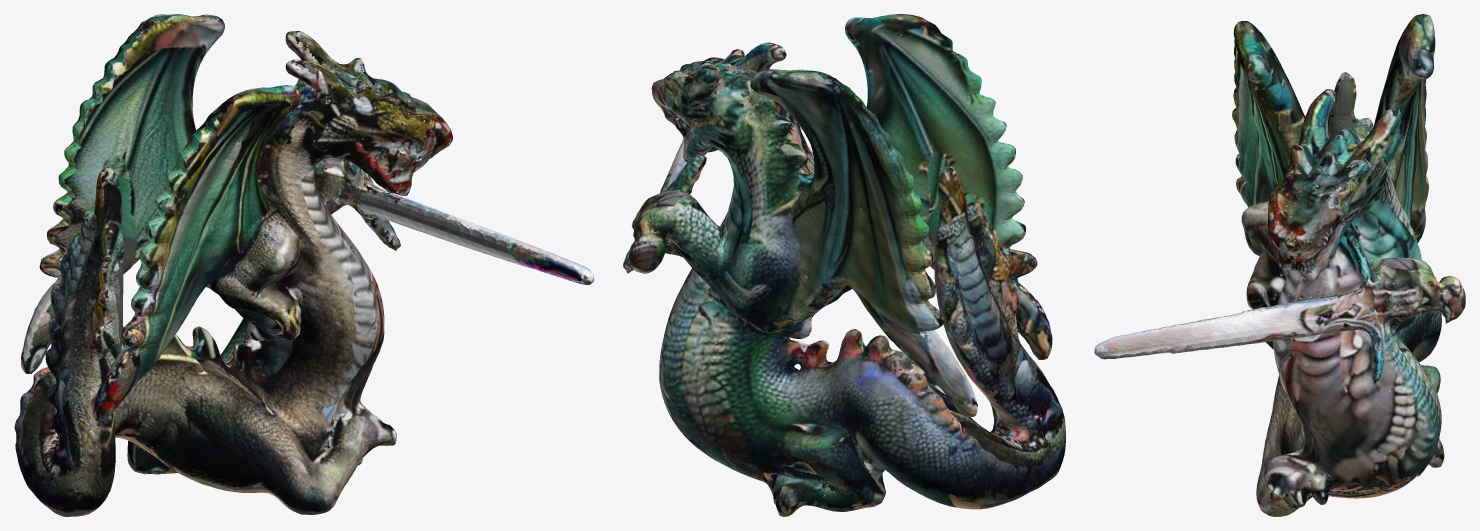
The model's file is dragon_sword_m0.glb.
3 renders of one model, left to right at view 1: azimuth 30°, elevation 25°; view 2: azimuth 150°, elevation 25°; view 3: azimuth 270°, elevation 25°, orthographic.
Parts seen in each view (by area): view 1: mesh; view 2: mesh; view 3: mesh.
Part boxes in pixels (x1=…): mesh: x1=14, y1=14, x2=594, y2=516; mesh: x1=623, y1=14, x2=1065, y2=516; mesh: x1=1094, y1=14, x2=1465, y2=516.
Bounding box in the file's own units: 0.8119 × 0.8045 × 0.594.
1 material, 1 textured.
